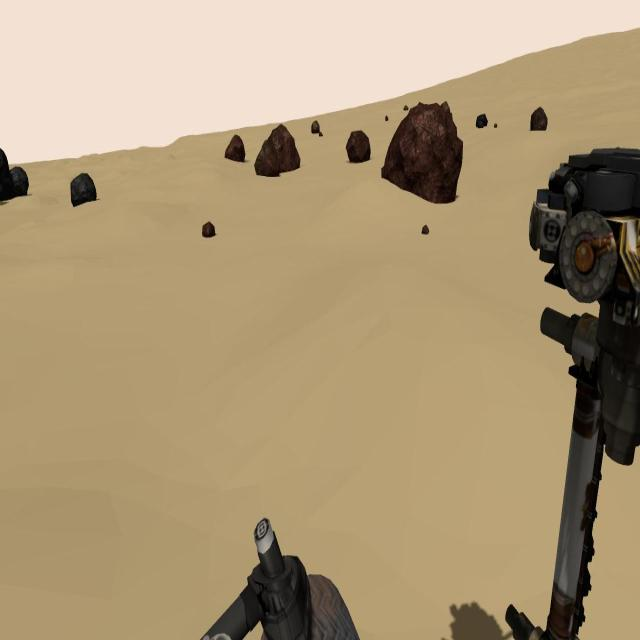rock: (380, 100, 463, 204), (270, 126, 300, 171), (254, 138, 279, 176), (70, 174, 96, 206), (346, 131, 370, 162), (225, 134, 245, 164), (8, 167, 28, 196), (1, 148, 9, 204), (530, 107, 548, 131), (202, 222, 215, 238), (476, 115, 488, 129), (312, 120, 320, 134), (422, 224, 430, 234), (317, 131, 323, 137), (402, 106, 409, 111), (385, 118, 390, 121), (494, 124, 497, 127)
